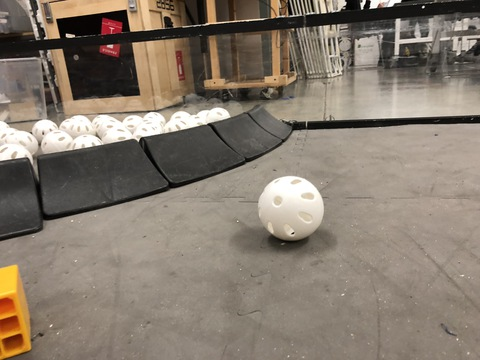ball: (241, 171, 344, 252)
block: (2, 258, 45, 357)
